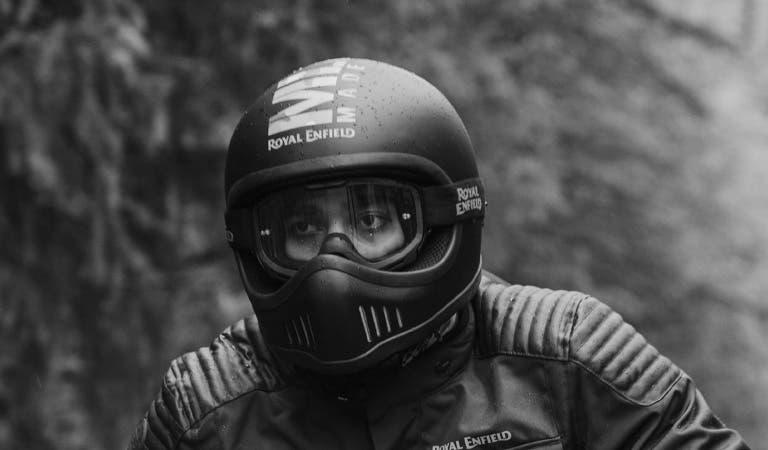Helmet: (230, 59, 485, 377)
